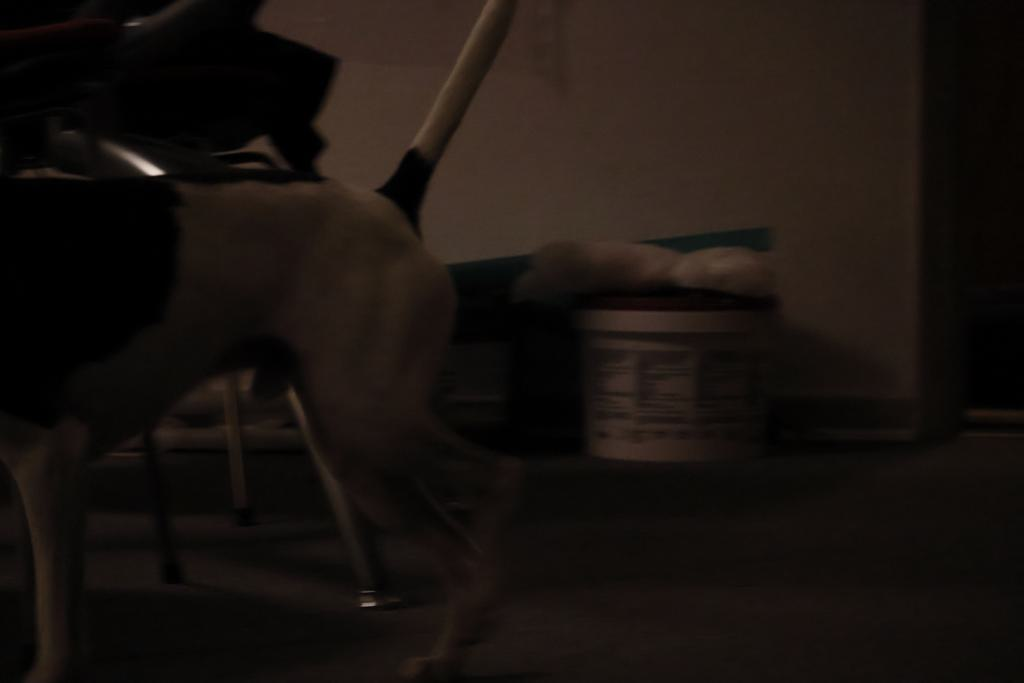Dog: (0, 0, 523, 683)
